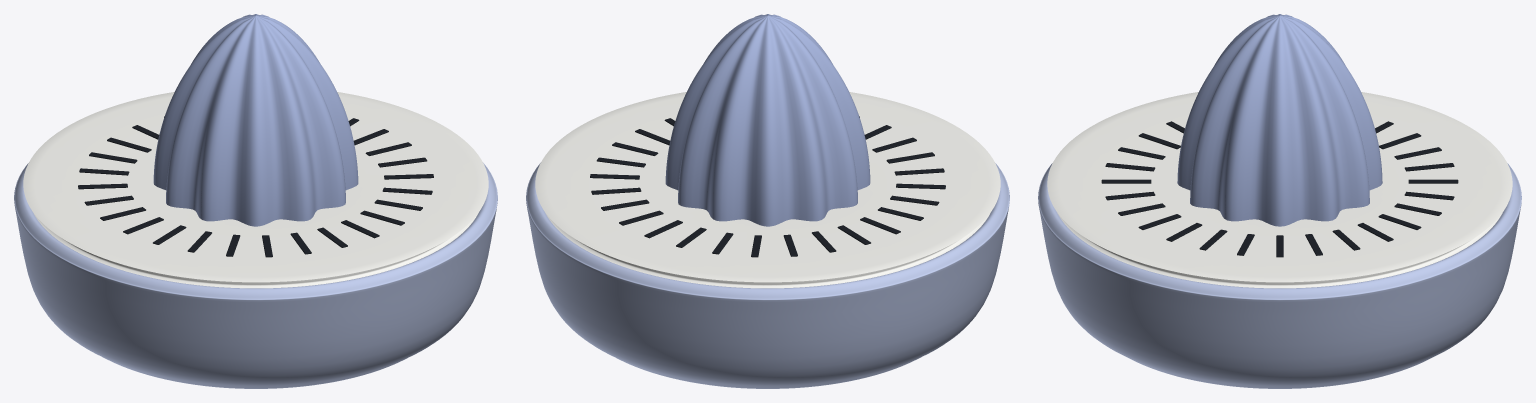
File: citrus-press.glb
3 renders of one model, left to right at view 1: azimuth 30°, elevation 25°; view 2: azimuth 150°, elevation 25°; view 3: azimuth 270°, elevation 25°, orthographic.
Visible parts, largest first — view 1: machined-annular-ring, hollow-vessel-with-rolled-lip, continuous-twelve-flute-reamer; view 2: machined-annular-ring, hollow-vessel-with-rolled-lip, continuous-twelve-flute-reamer; view 3: machined-annular-ring, hollow-vessel-with-rolled-lip, continuous-twelve-flute-reamer.
Boxes of the visible parts, box(x1,y1,x2,y2) form: machined-annular-ring: box(23, 92, 488, 288); hollow-vessel-with-rolled-lip: box(14, 163, 497, 388); continuous-twelve-flute-reamer: box(153, 14, 358, 226); machined-annular-ring: box(535, 92, 1000, 288); hollow-vessel-with-rolled-lip: box(526, 163, 1009, 388); continuous-twelve-flute-reamer: box(665, 14, 870, 226); machined-annular-ring: box(1047, 92, 1512, 288); hollow-vessel-with-rolled-lip: box(1038, 163, 1521, 388); continuous-twelve-flute-reamer: box(1177, 14, 1382, 226).
Bounding box in the file's own units: 2 × 1.35 × 2.
